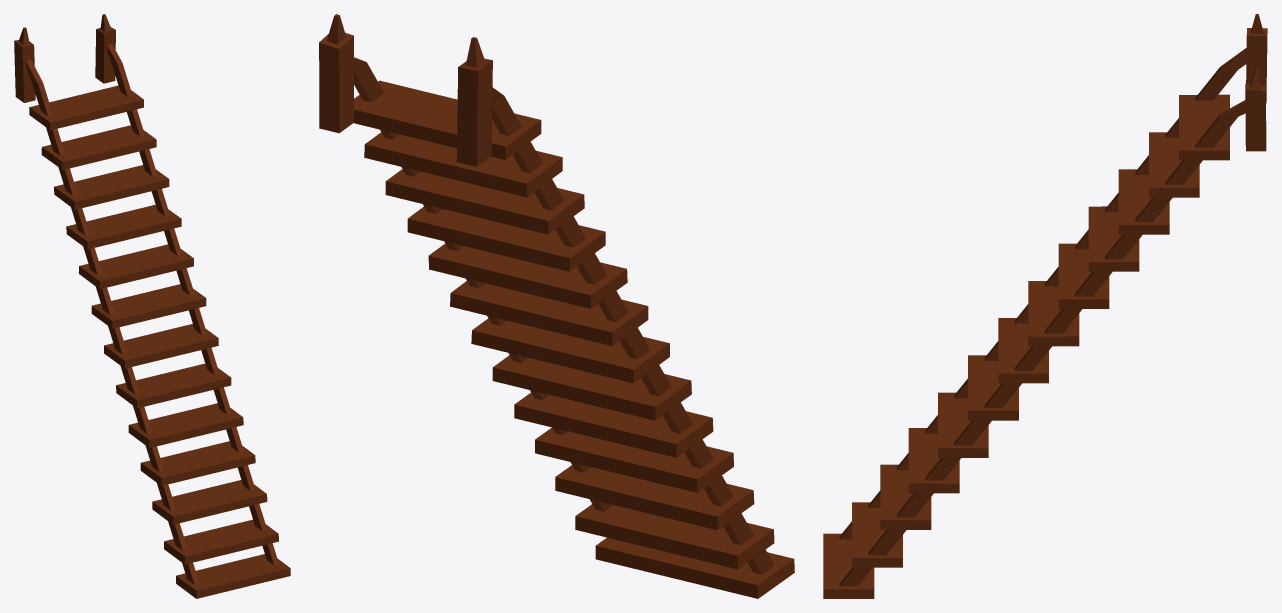
File: Ladder3Atajo.fbx
3 renders of one model, left to right at view 1: azimuth 30°, elevation 25°; view 2: azimuth 150°, elevation 25°; view 3: azimuth 270°, elevation 25°, orthographic. The views are drawn at different scales.
Visible parts, largest first — view 1: Ladder3Cubes; view 2: Ladder3Cubes; view 3: Ladder3Cubes.
Part boxes in pixels (left/top/right/bottom): Ladder3Cubes: left=14, top=14, right=290, bottom=598; Ladder3Cubes: left=319, top=14, right=794, bottom=598; Ladder3Cubes: left=823, top=14, right=1267, bottom=598.
Bounding box in the file's own units: 76.86 × 341 × 258.
